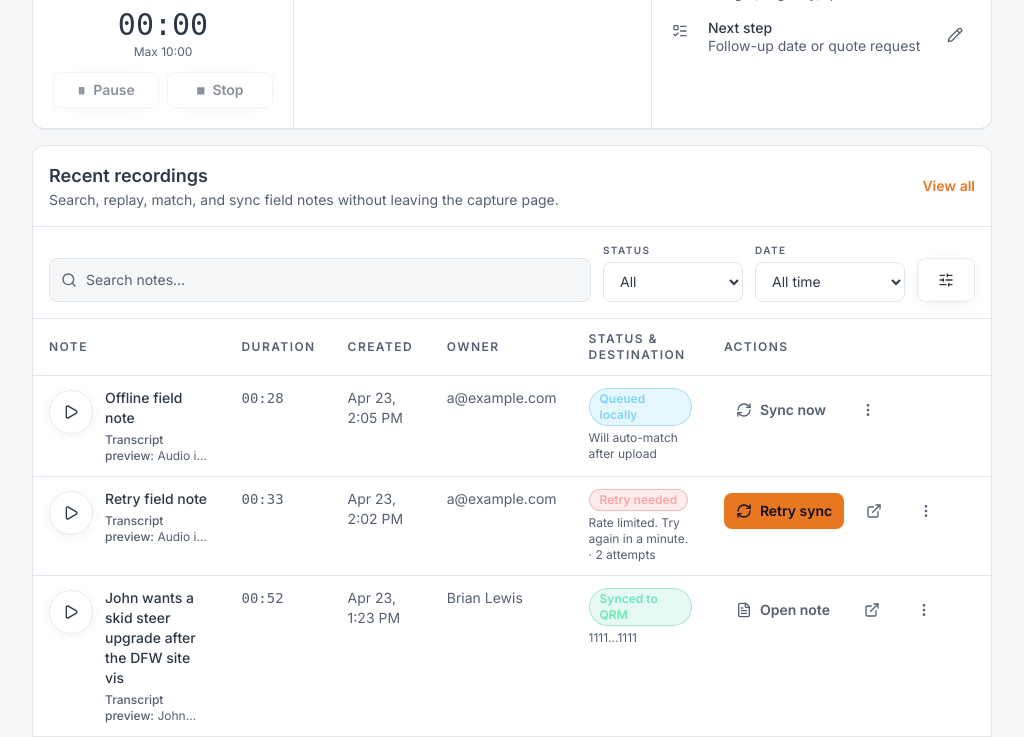
Test: switching account during queued upload suppresses old note state and toasts
(page scrolled)
Click the button "Sync now". click: (781, 410)
box: [724,392,838,428]
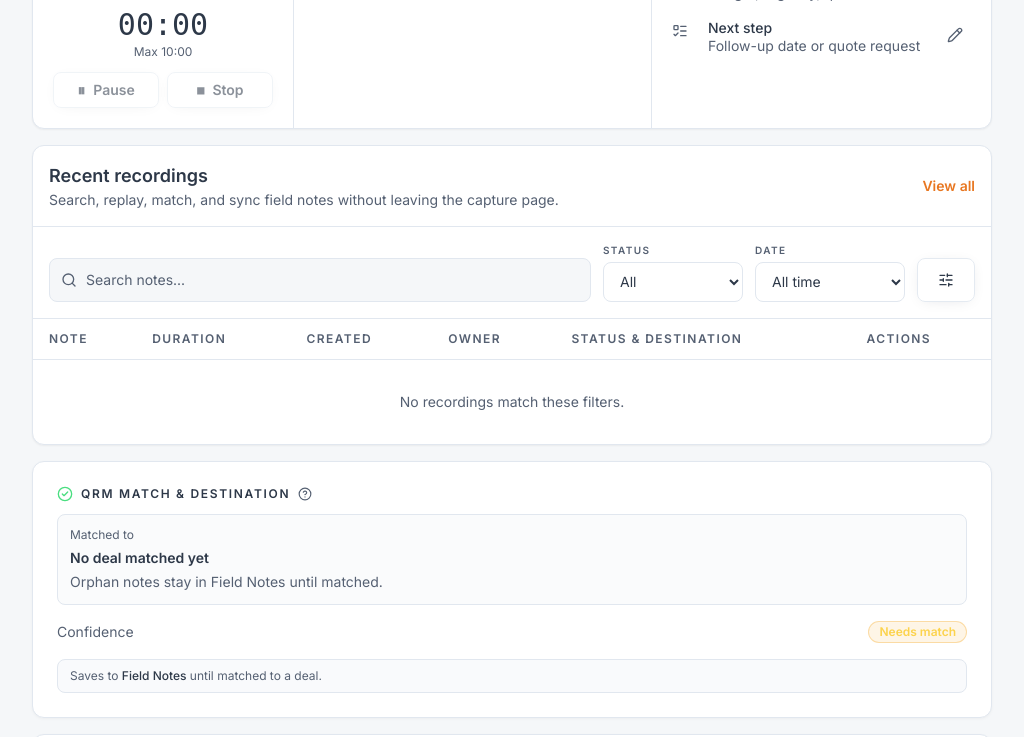
Result: the text "Retry field note" is gone
